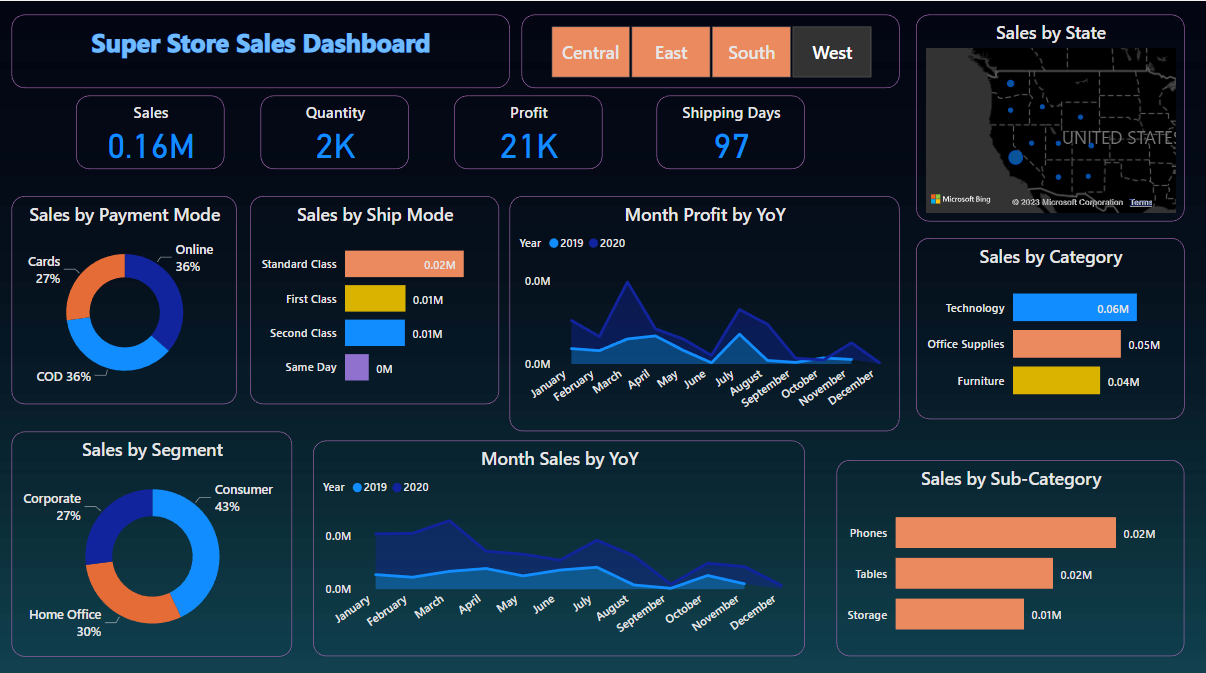

Layout of this report page (visuals, bound fields, positions):
{"tool":"powerbi","page":{"name":"Super_Store_Sales_Dashboard","canvas":[1280,720],"ordinal":0},"visuals":[{"type":"barChart","title":"Sales by Category","fields":{"Category":["SuperStore_Sales_Newdataset.Category"],"Y":["Sum(SuperStore_Sales_Newdataset.Sales)"]},"box":[972.7,251.1,284.5,192.3],"z":0},{"type":"barChart","title":"Sales by Sub-Category","fields":{"Category":["SuperStore_Sales_Newdataset.Sub-Category"],"Y":["Sum(SuperStore_Sales_Newdataset.Sales)"]},"box":[888.5,486.4,368.7,208.2],"z":1000},{"type":"barChart","title":"Sales by Ship Mode","fields":{"Category":["SuperStore_Sales_Newdataset.Ship Mode"],"Y":["Sum(SuperStore_Sales_Newdataset.Sales)"]},"box":[267,206.6,263.8,220.9],"z":2000},{"type":"stackedAreaChart","title":" Month  Sales by YoY","fields":{"Y":["Sum(SuperStore_Sales_Newdataset.Sales)"],"Series":["SuperStore_Sales_Newdataset.Order Date.Variation.Date Hierarchy.Year"],"Category":["SuperStore_Sales_Newdataset.Order Date.Variation.Date Hierarchy.Month","SuperStore_Sales_Newdataset.Order Date.Variation.Date Hierarchy.Day"]},"box":[333.8,465.7,521.3,228.9],"z":3000},{"type":"stackedAreaChart","title":" Month  Profit by YoY","fields":{"Series":["SuperStore_Sales_Newdataset.Order Date.Variation.Date Hierarchy.Year"],"Category":["SuperStore_Sales_Newdataset.Order Date.Variation.Date Hierarchy.Month","SuperStore_Sales_Newdataset.Order Date.Variation.Date Hierarchy.Day"],"Y":["Sum(SuperStore_Sales_Newdataset.Profit)"]},"box":[542,206.6,413.2,249.5],"z":4000},{"type":"map","title":"Sales by State","fields":{"Category":["SuperStore_Sales_Newdataset.State"],"Size":["Sum(SuperStore_Sales_Newdataset.Sales)"]},"box":[972.7,14.3,284.5,219.3],"z":5000},{"type":"donutChart","title":" Sales by Segment","fields":{"Category":["SuperStore_Sales_Newdataset.Segment"],"Y":["Sum(SuperStore_Sales_Newdataset.Sales)"]},"box":[14.3,456.2,297.2,238.4],"z":6000},{"type":"donutChart","title":"Sales by Payment Mode","fields":{"Category":["SuperStore_Sales_Newdataset.Payment Mode"],"Y":["Sum(SuperStore_Sales_Newdataset.Sales)"]},"box":[14.3,206.6,238.4,220.9],"z":7000},{"type":"slicer","fields":{"Values":["SuperStore_Sales_Newdataset.Region"]},"box":[554.7,14.3,400.5,77.9],"z":8000},{"type":"textbox","box":[14.3,14.3,527.7,77.9],"z":9000},{"type":"card","title":"Sales","fields":{"Values":["Sum(SuperStore_Sales_Newdataset.Sales)"]},"box":[82.6,100.1,157.4,77.9],"z":9001},{"type":"card","title":"Quantity","fields":{"Values":["Sum(SuperStore_Sales_Newdataset.Quantity)"]},"box":[278.1,100.1,157.4,77.9],"z":9002},{"type":"card","title":"Profit","fields":{"Values":["Sum(SuperStore_Sales_Newdataset.Profit)"]},"box":[483.2,100.1,157.4,77.9],"z":9003},{"type":"card","title":"Shipping Days","fields":{"Values":["Avg(SuperStore_Sales_Newdataset.AvgDelivery)"]},"box":[697.7,100.1,157.4,77.9],"z":9004}]}

Visuals, with their boxes in screenshot pixels (x1, y1, x2, y2), scaled from the page's 1280x720 canvas onto the 1206x673 screenshot:
"Sales by Category" barChart: locate(916, 235, 1185, 414)
"Sales by Sub-Category" barChart: locate(837, 455, 1185, 649)
"Sales by Ship Mode" barChart: locate(252, 193, 500, 400)
" Month  Sales by YoY" stackedAreaChart: locate(315, 435, 806, 649)
" Month  Profit by YoY" stackedAreaChart: locate(511, 193, 900, 426)
"Sales by State" map: locate(916, 13, 1185, 218)
" Sales by Segment" donutChart: locate(13, 426, 293, 649)
"Sales by Payment Mode" donutChart: locate(13, 193, 238, 400)
slicer - SuperStore_Sales_Newdataset.Region: locate(523, 13, 900, 86)
textbox: locate(13, 13, 511, 86)
"Sales" card: locate(78, 94, 226, 166)
"Quantity" card: locate(262, 94, 410, 166)
"Profit" card: locate(455, 94, 604, 166)
"Shipping Days" card: locate(657, 94, 806, 166)
